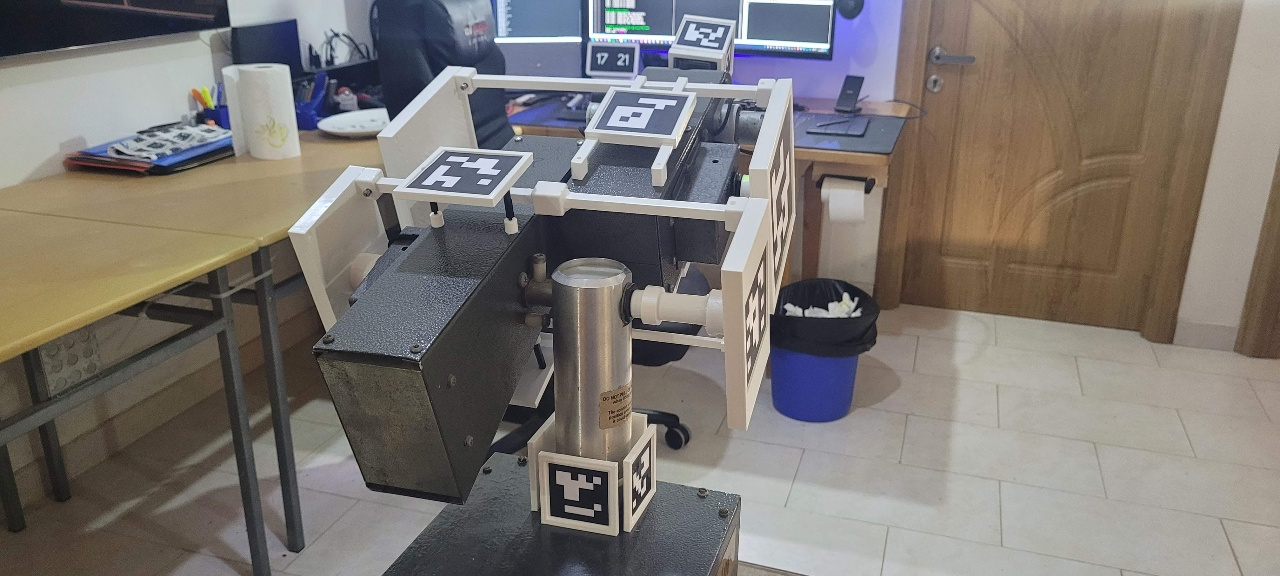Robot: (285, 10, 800, 540)
